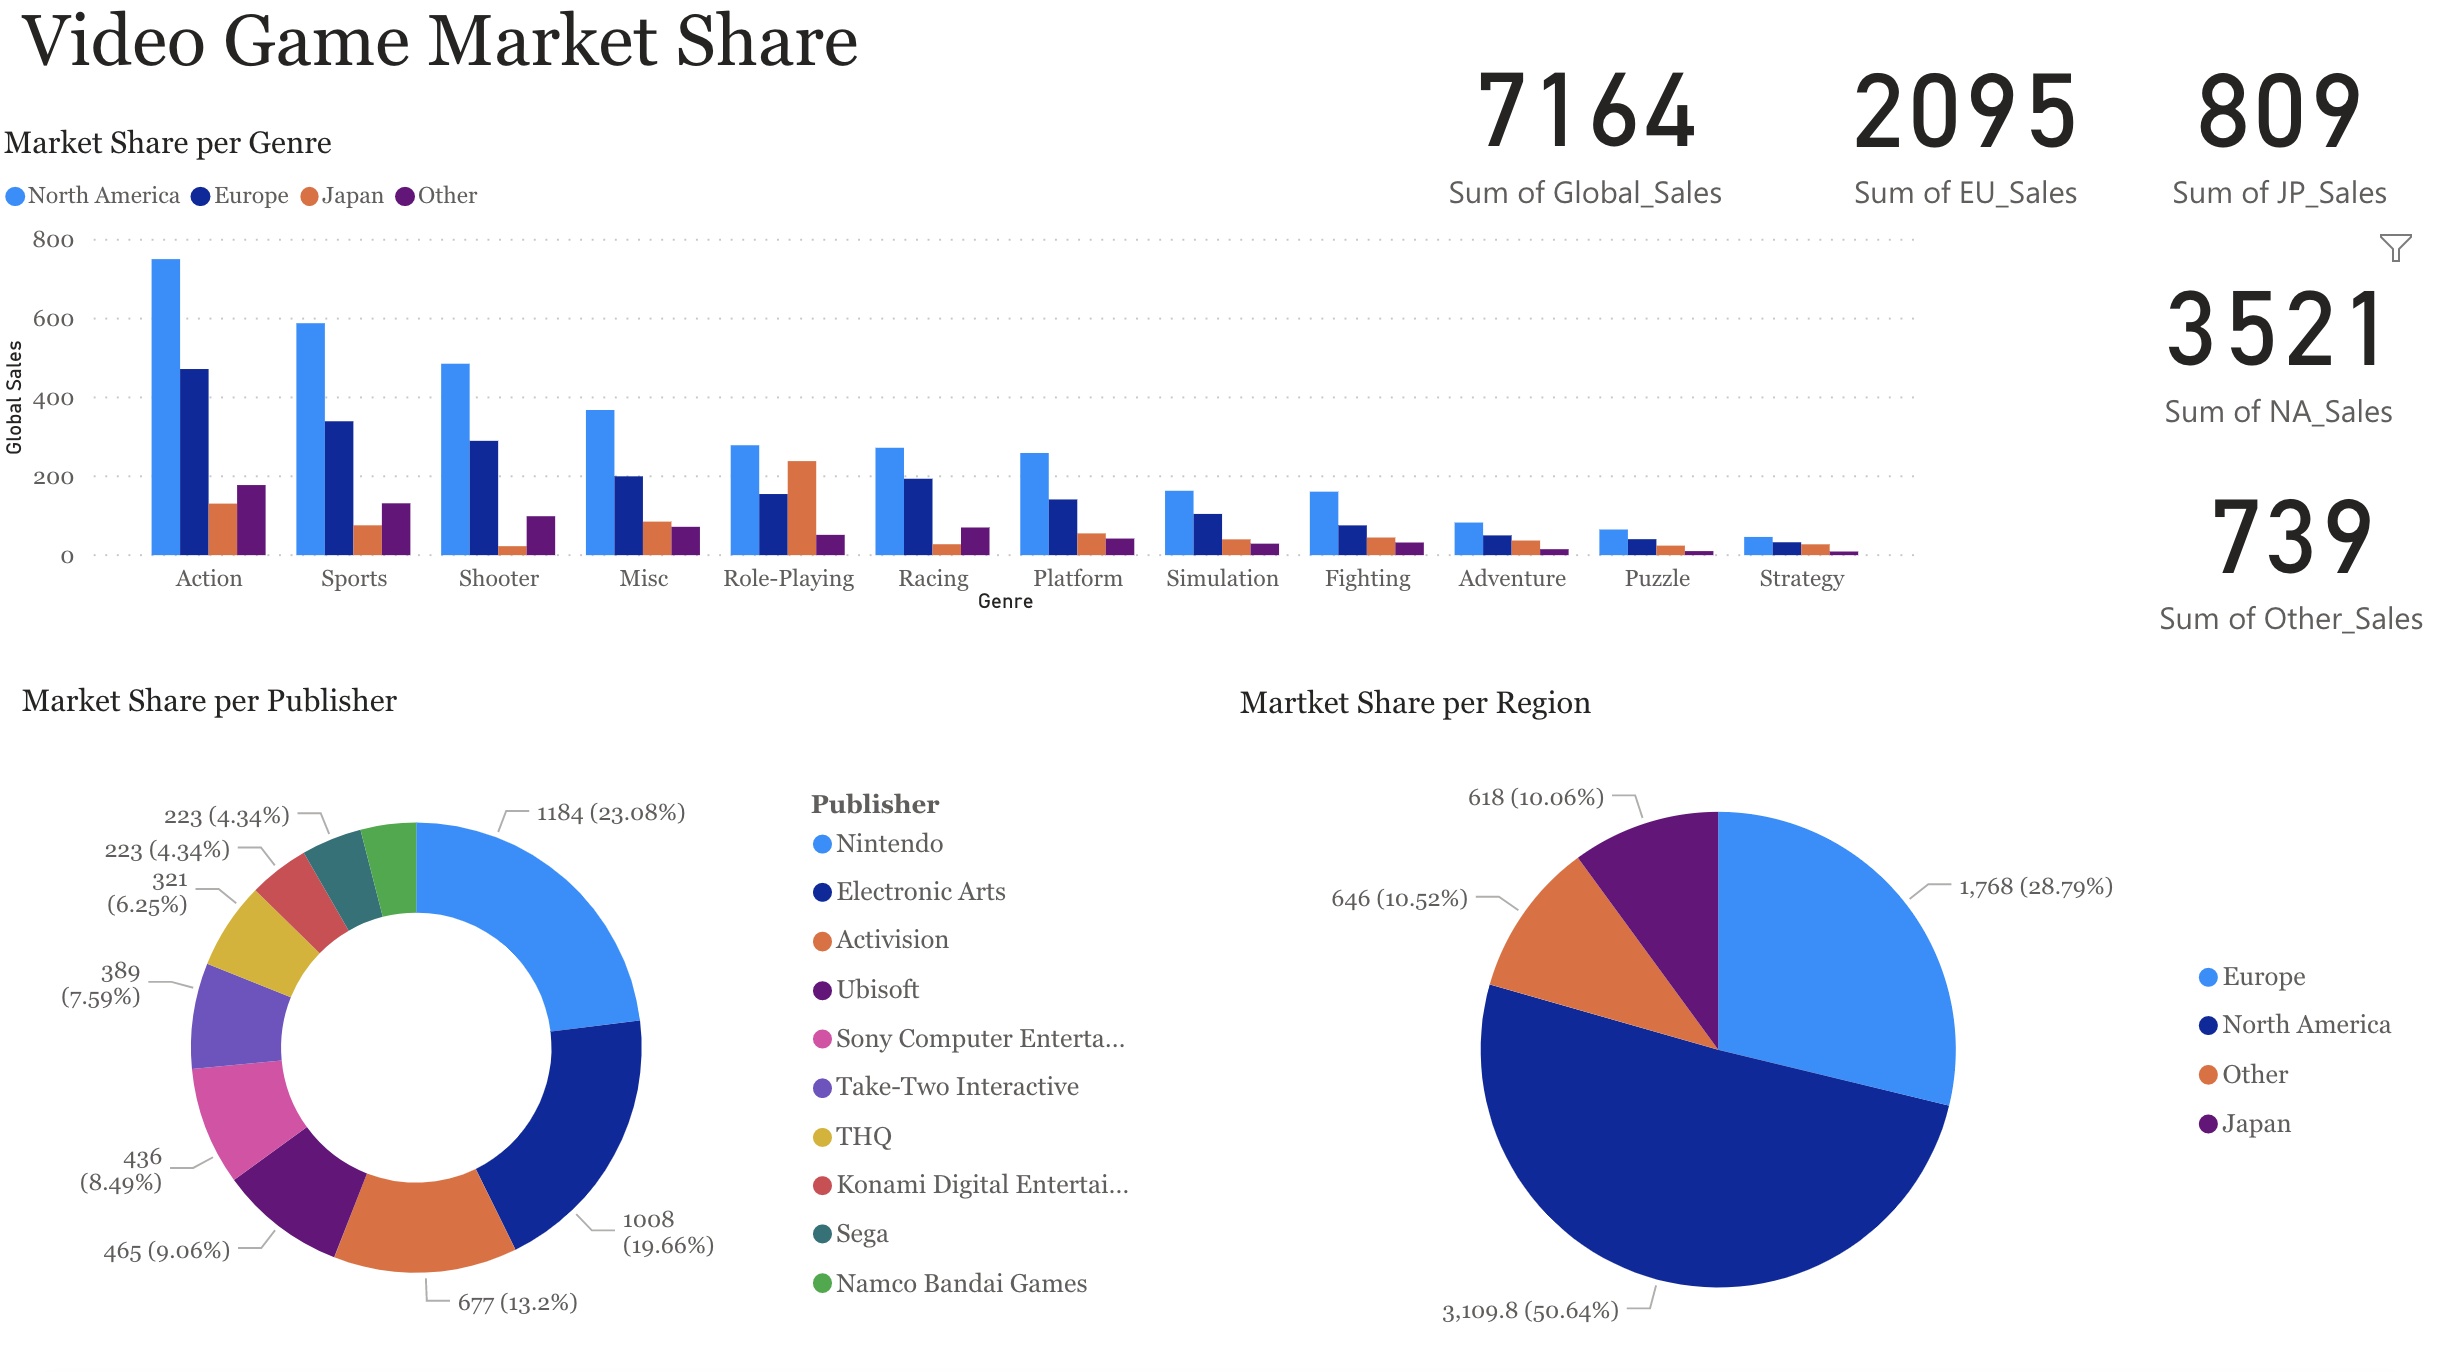

The dashboard page shown, as its layout file describes it:
{"tool":"powerbi","page":{"name":"Market Share","canvas":[1280,720],"ordinal":1},"visuals":[{"type":"textbox","box":[9.6,0,594.1,69.8],"z":0},{"type":"donutChart","title":"Market Share per Publisher","fields":{"Y":["Sum(vgsales.Global_Sales)"],"Category":["vgsales.Publisher"]},"box":[9.4,358.2,595,361.4],"z":1000},{"type":"clusteredColumnChart","title":"Market Share per Genre","fields":{"Category":["vgsales.Genre","vgsales.Year"],"Y":["vgsales.North America","vgsales.Europe","vgsales.Japan","vgsales.Other"]},"box":[0,69.6,1001.7,258.4],"z":2000},{"type":"card","fields":{"Values":["Sum(vgsales.Other_Sales)"]},"box":[1111.4,232.2,159,109.2],"z":3000},{"type":"card","fields":{"Values":["Sum(vgsales.NA_Sales)"]},"box":[1111.2,124,146.4,108.5],"z":4000},{"type":"card","fields":{"Values":["Sum(vgsales.JP_Sales)"]},"box":[1111.4,11.1,146.5,109.2],"z":5000},{"type":"card","fields":{"Values":["Sum(vgsales.EU_Sales)"]},"box":[948.3,11.1,146.5,109.2],"z":6000},{"type":"pieChart","title":"Martket Share per Region","fields":{"Y":["vgsales.Europe","vgsales.North America","vgsales.Other","vgsales.Japan"]},"box":[640.7,359.3,616.2,360.8],"z":7000},{"type":"card","fields":{"Values":["Sum(vgsales.Global_Sales)"]},"box":[716,6.9,217,117.5],"z":8000}]}

Visuals, with their boxes in screenshot pixels (x1, y1, x2, y2), scaled from the page's 1280x720 canvas onto the 2450x1372 screenshot:
textbox: region(18, 0, 1156, 133)
"Market Share per Publisher" donutChart: region(18, 683, 1157, 1371)
"Market Share per Genre" clusteredColumnChart: region(0, 133, 1917, 625)
card - Sum(vgsales.Other_Sales): region(2127, 442, 2432, 651)
card - Sum(vgsales.NA_Sales): region(2127, 236, 2407, 443)
card - Sum(vgsales.JP_Sales): region(2127, 21, 2408, 229)
card - Sum(vgsales.EU_Sales): region(1815, 21, 2096, 229)
"Martket Share per Region" pieChart: region(1226, 685, 2406, 1371)
card - Sum(vgsales.Global_Sales): region(1370, 13, 1786, 237)
